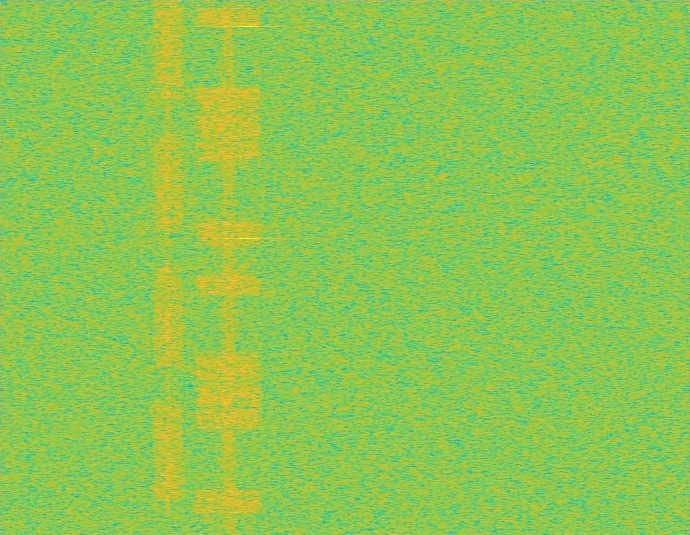5G: (151, 0, 186, 534)
DSSS: (221, 0, 236, 534), (166, 0, 171, 534)
LTE: (194, 0, 263, 534)
Radar: (241, 0, 255, 534)
